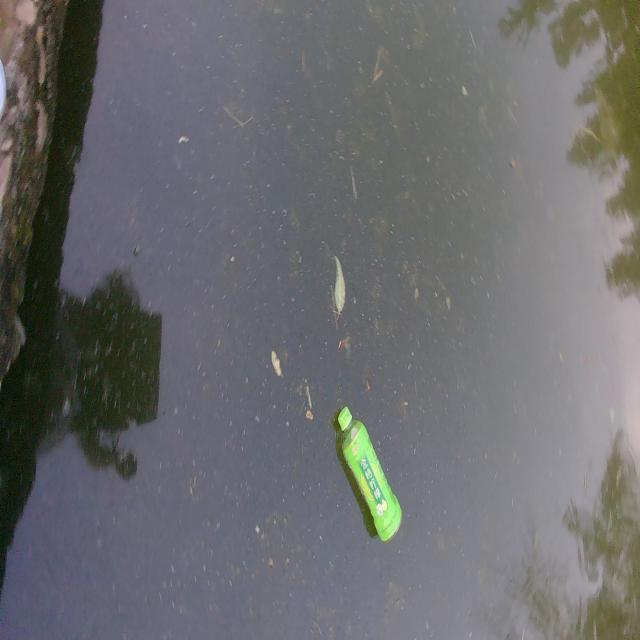garbage: (335, 404, 403, 542)
